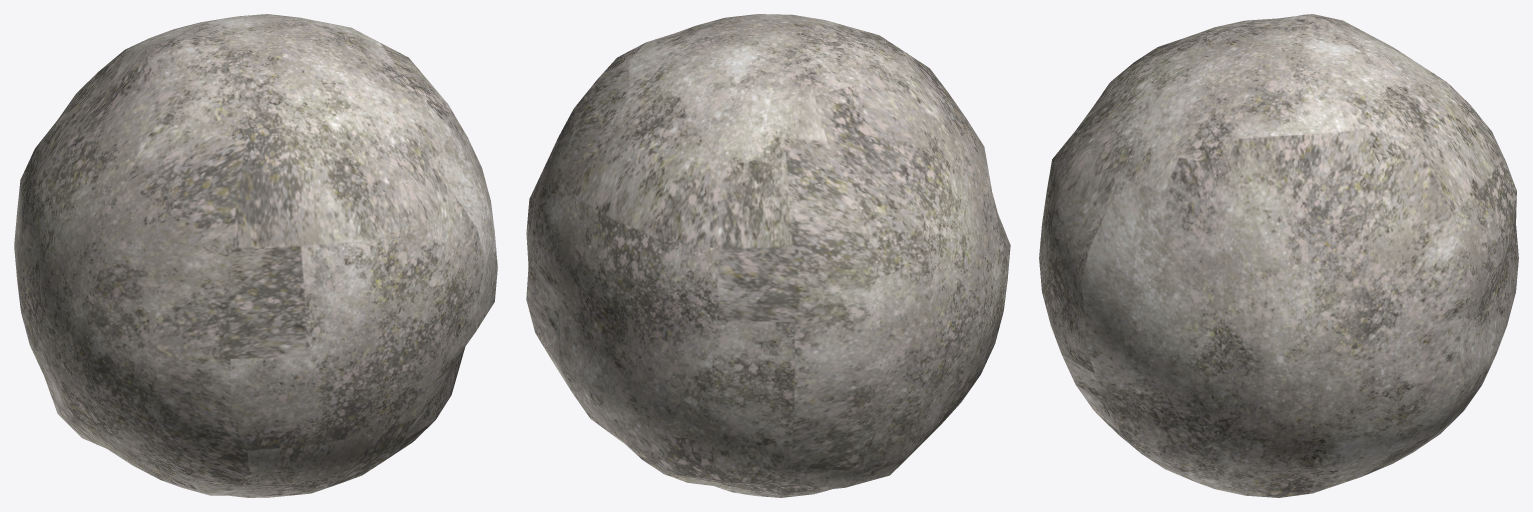
Rendered from boulder.glb.
The picture shows the model from 3 angles, left to right: view 1: azimuth 30°, elevation 25°; view 2: azimuth 150°, elevation 25°; view 3: azimuth 270°, elevation 25°; orthographic projection.
Visible parts, largest first — view 1: pSphere1; view 2: pSphere1; view 3: pSphere1.
Part boxes in pixels (box(x1,y1,x2,y2)): pSphere1: box(14, 14, 497, 497); pSphere1: box(526, 14, 1010, 497); pSphere1: box(1039, 14, 1518, 497).
Size of the model in its own units: 0.0435 by 0.0429 by 0.0429.
Materials: 1 (1 with a texture image).
